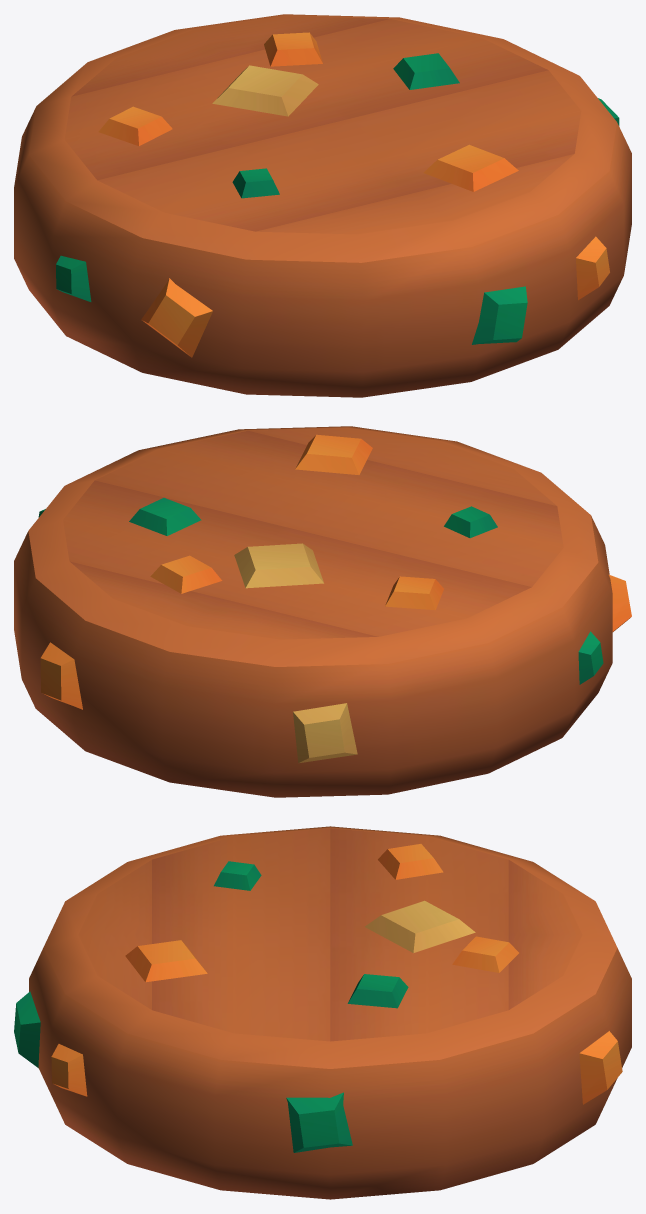
File: kaykit-restaurant-bits-food-ingredient-vegetableburger-cooked.glb
3 views of the same model, one above another, from view 1: azimuth 30°, elevation 25°; view 2: azimuth 150°, elevation 25°; view 3: azimuth 270°, elevation 25° (orthographic). The views are drawn at different scales.
Visible parts, largest first — view 1: food_ingredient_vegetableburger_cooked; view 2: food_ingredient_vegetableburger_cooked; view 3: food_ingredient_vegetableburger_cooked.
Part boxes in pixels (x1,y1,x2,y2): food_ingredient_vegetableburger_cooked: (14, 14, 631, 397); food_ingredient_vegetableburger_cooked: (14, 426, 631, 797); food_ingredient_vegetableburger_cooked: (14, 826, 631, 1199).
Size of the model in its own units: 0.728 by 0.216 by 0.7173.
1 material, 1 textured.
